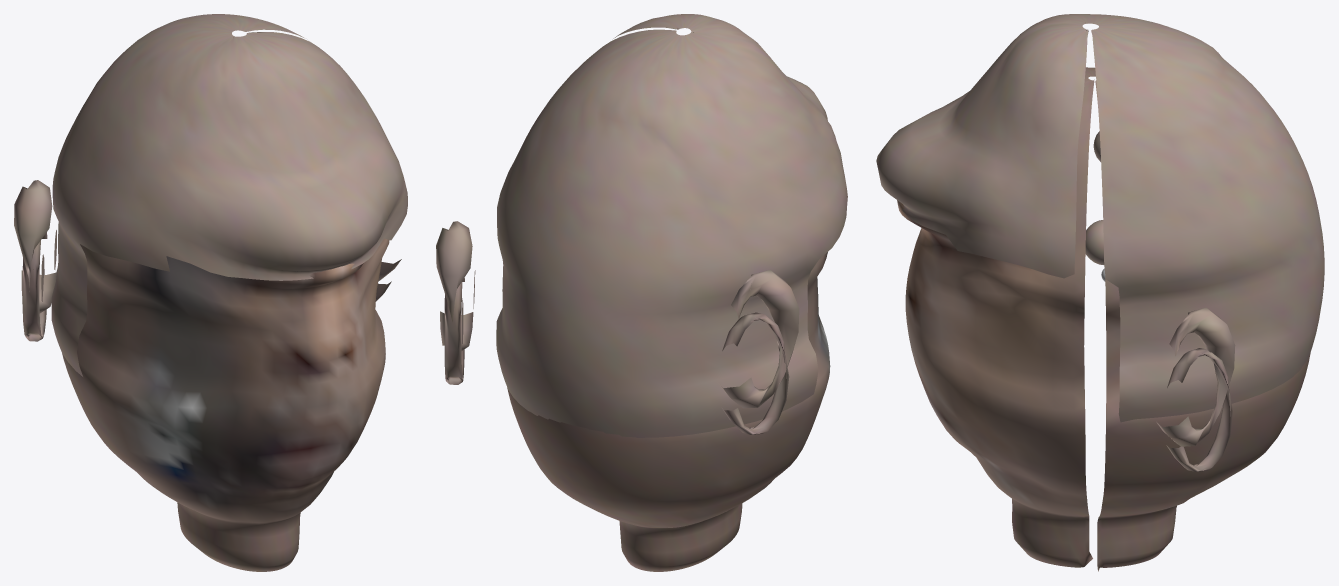
Rendered from avatar_v2_97cec1d1.glb.
3 views of the same model, side by side, from view 1: azimuth 30°, elevation 25°; view 2: azimuth 150°, elevation 25°; view 3: azimuth 270°, elevation 25° (orthographic).
Parts seen in each view (by area): view 1: world; view 2: world; view 3: world.
Boxes of the visible parts, left/top/right/bottom form: world: left=14, top=14, right=407, bottom=571; world: left=436, top=14, right=847, bottom=571; world: left=876, top=14, right=1324, bottom=571.
Bounding box in the file's own units: 0.1118 × 0.1506 × 0.1168.
